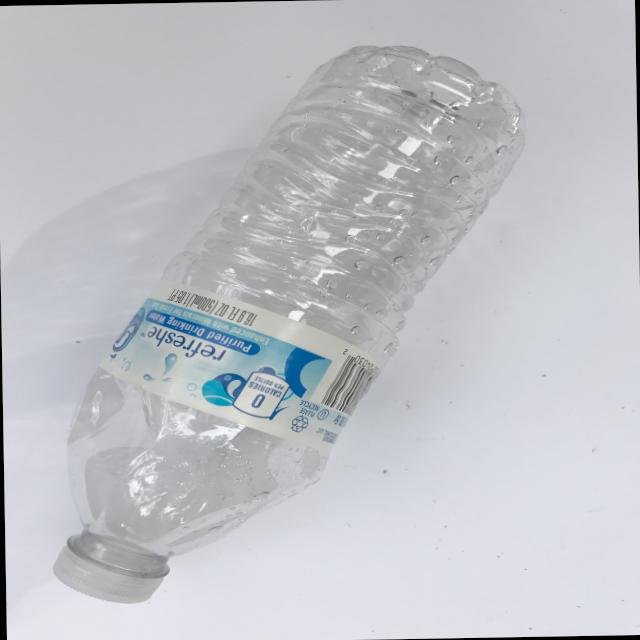Plastic: (19, 40, 540, 615)
